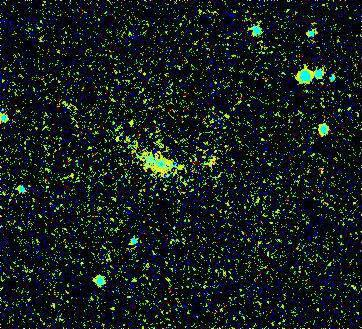star: (167, 153, 197, 183)
